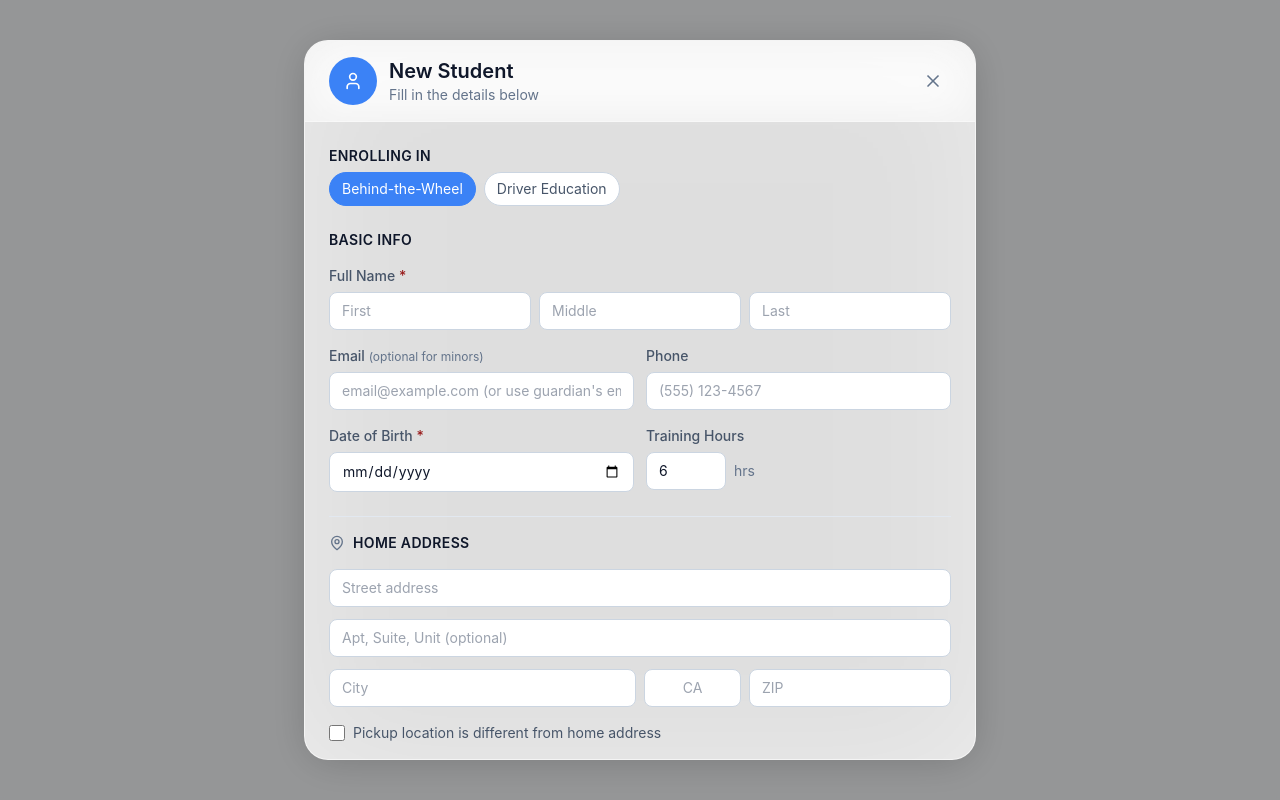
Scenario: StudentModal - program-aware create-success block › driver_training creation shows "Book Lesson", not "Go to Classroom"
Type "Adult" into the field with placeholder "First" at coordinates (430, 311), box [329,292,531,330]
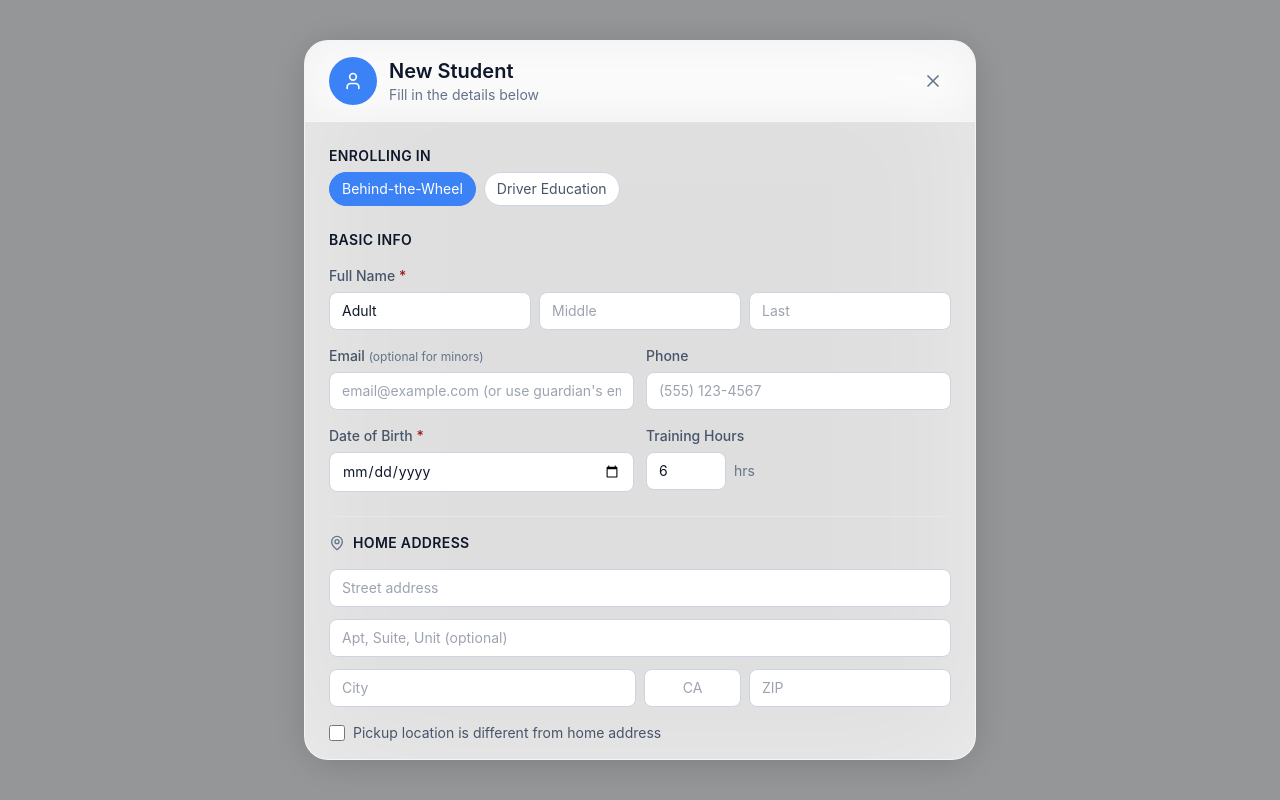
Type "Student" into the field with placeholder "Last" at coordinates (850, 311), box [749,292,951,330]
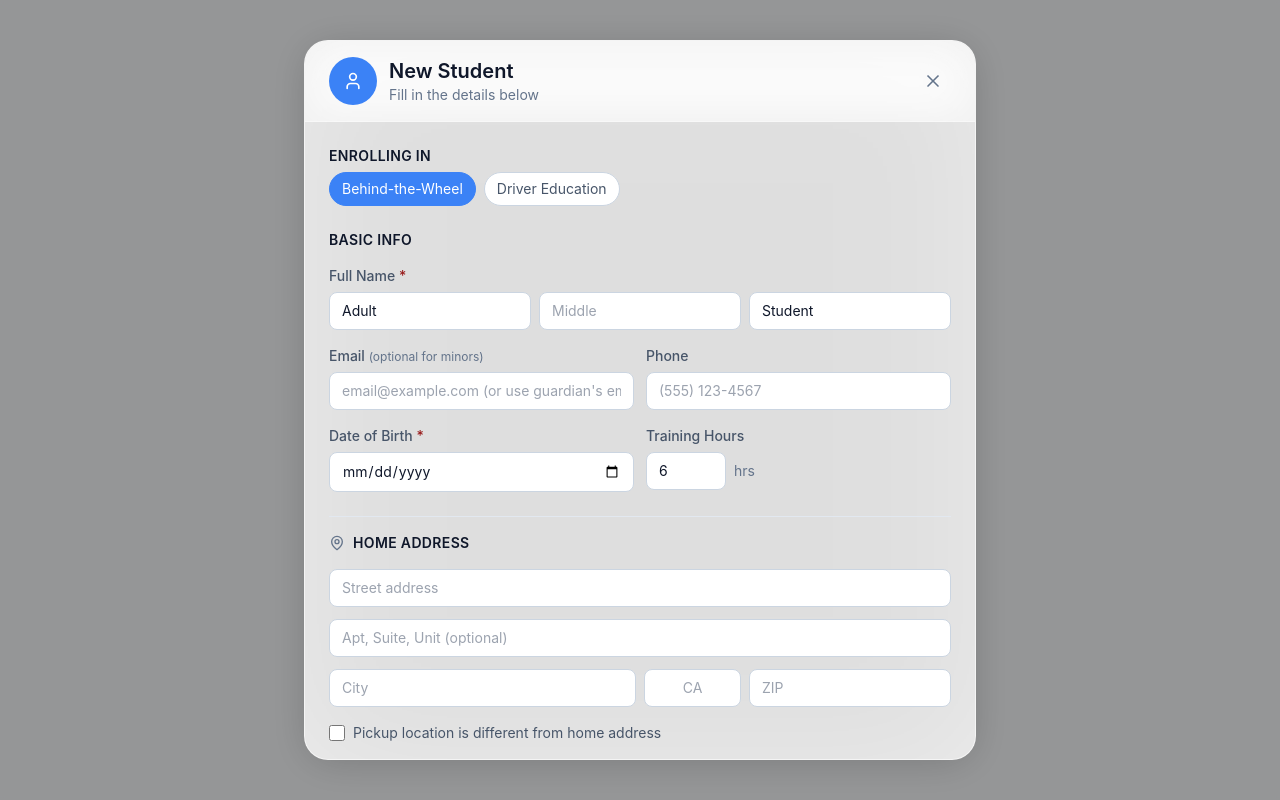
Type "adult.student@example.com" into the field with placeholder "email@example.com (or use guardian's email below)" at coordinates (482, 391), box [329,372,634,410]
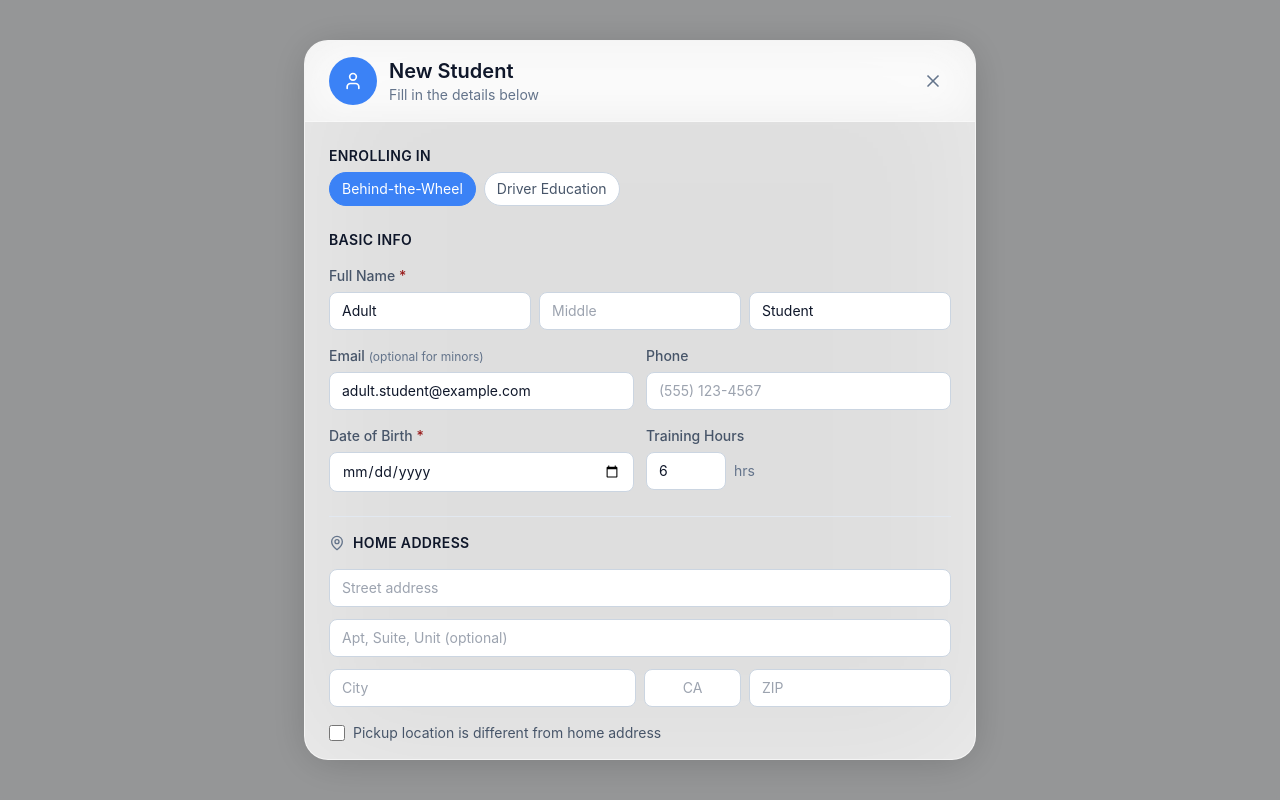
Type "5550100" into the field with placeholder "(555) 123-4567" at coordinates (798, 391), box [646,372,951,410]
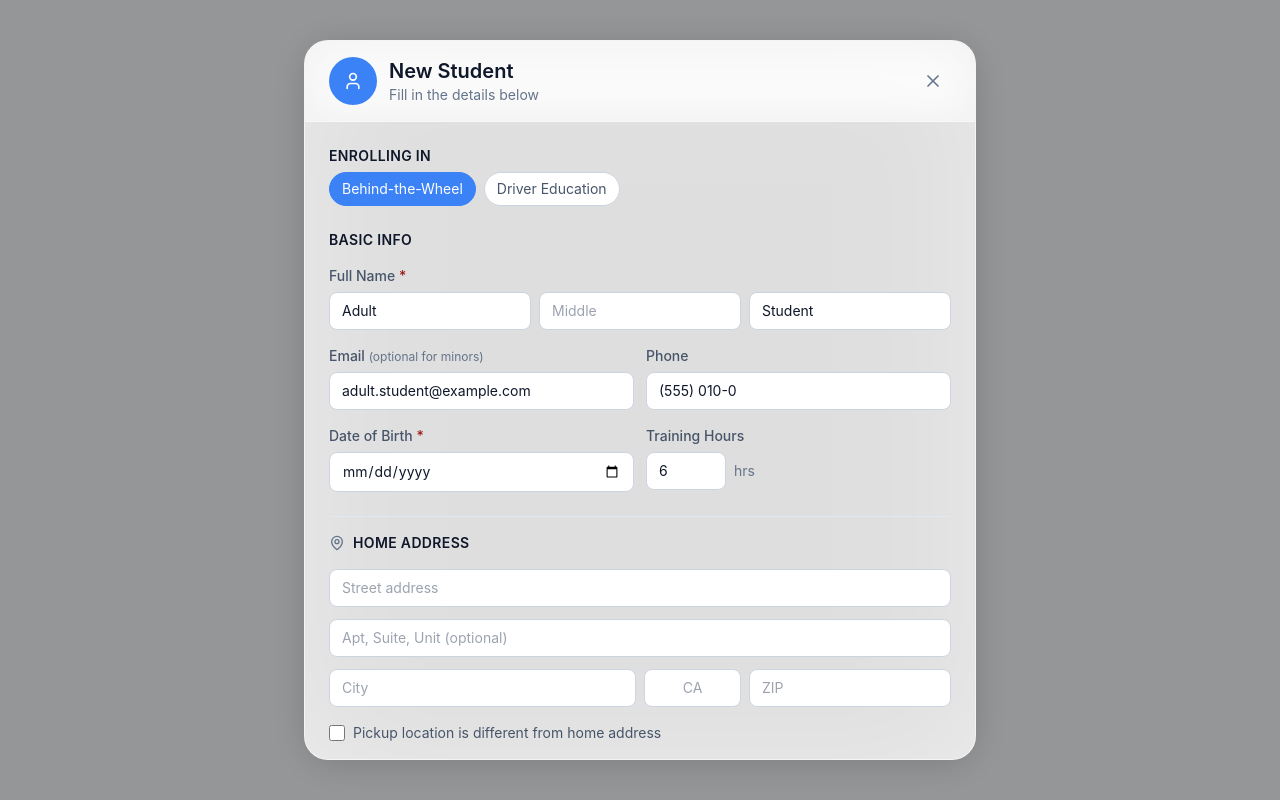
Type "1990-01-01" into the date field titled "Date of Birth" at coordinates (482, 472), box [329,452,634,492]
(page scrolled)
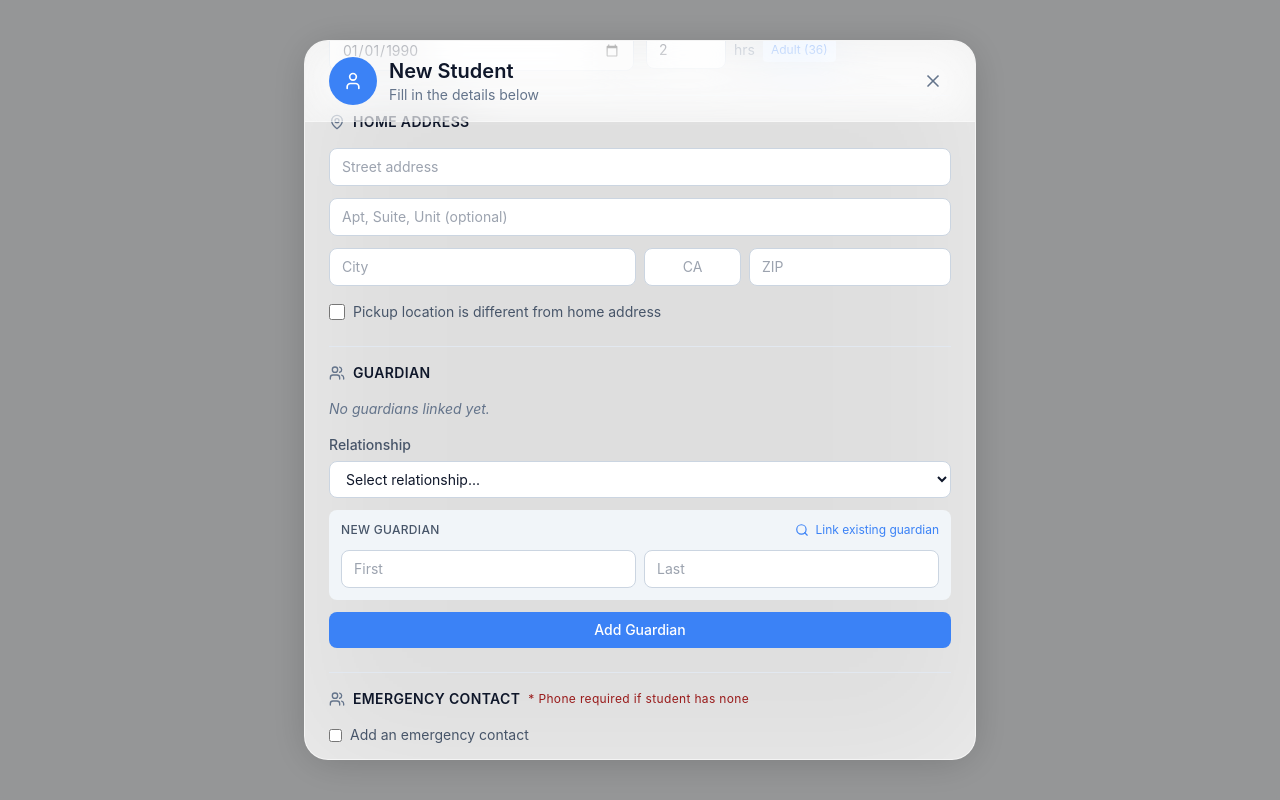
Submit the form titled "Date of Birth"
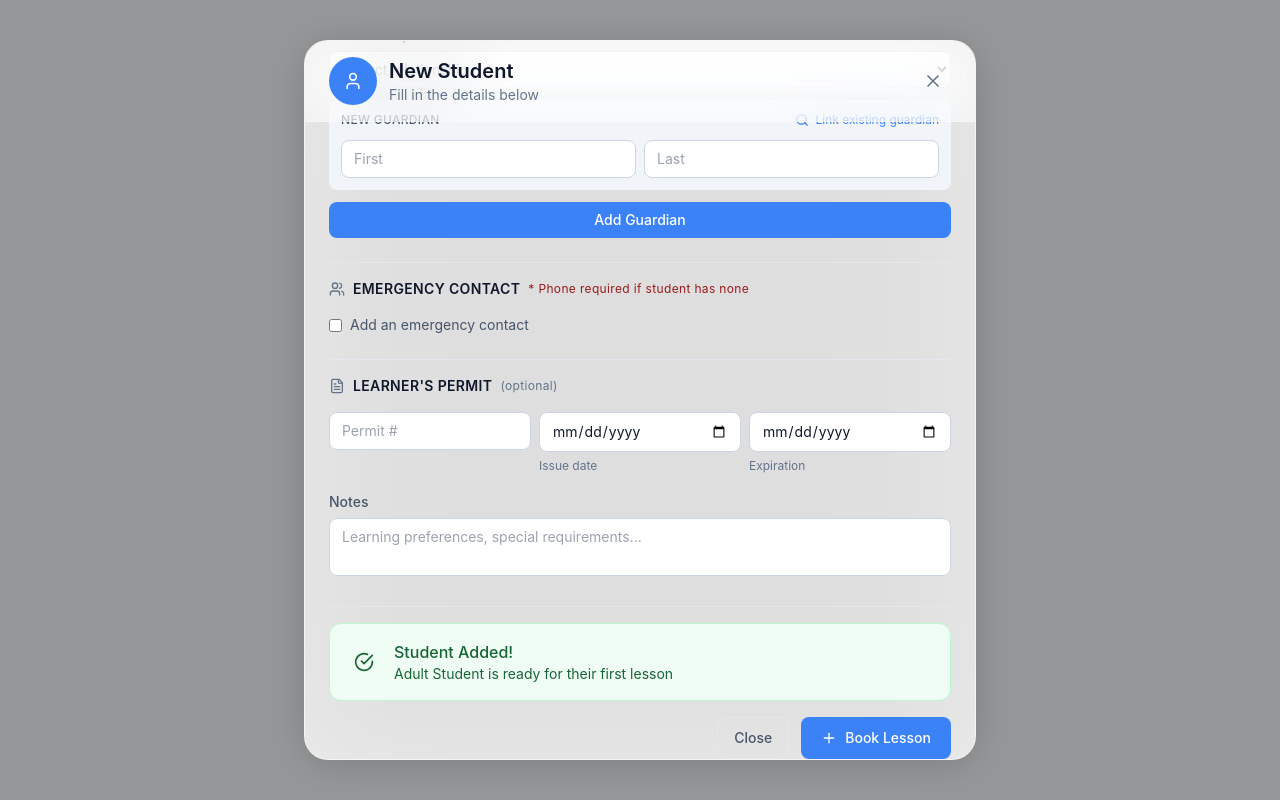
Expected: the text "Student Added!" is shown, [394,642,513,662]
Expected: the text "Adult Student is ready for their first lesson" is shown, [394,664,673,684]
Expected: the button "Book Lesson" is shown, [801,717,951,759]
